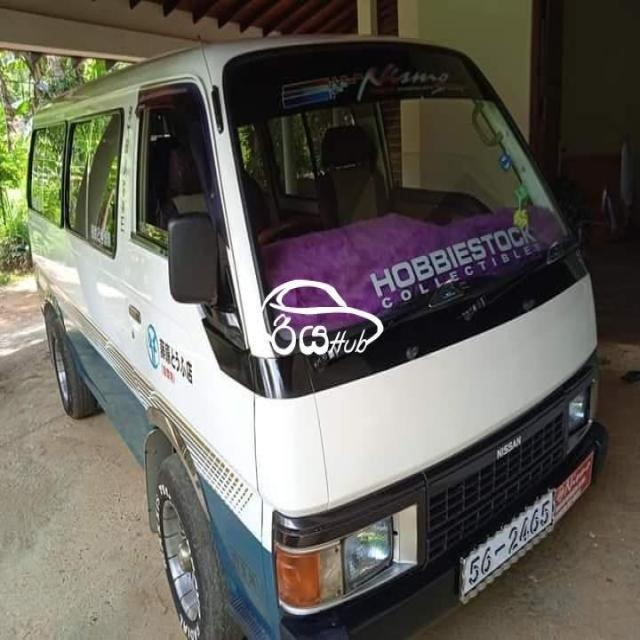Van: (20, 35, 612, 630)
